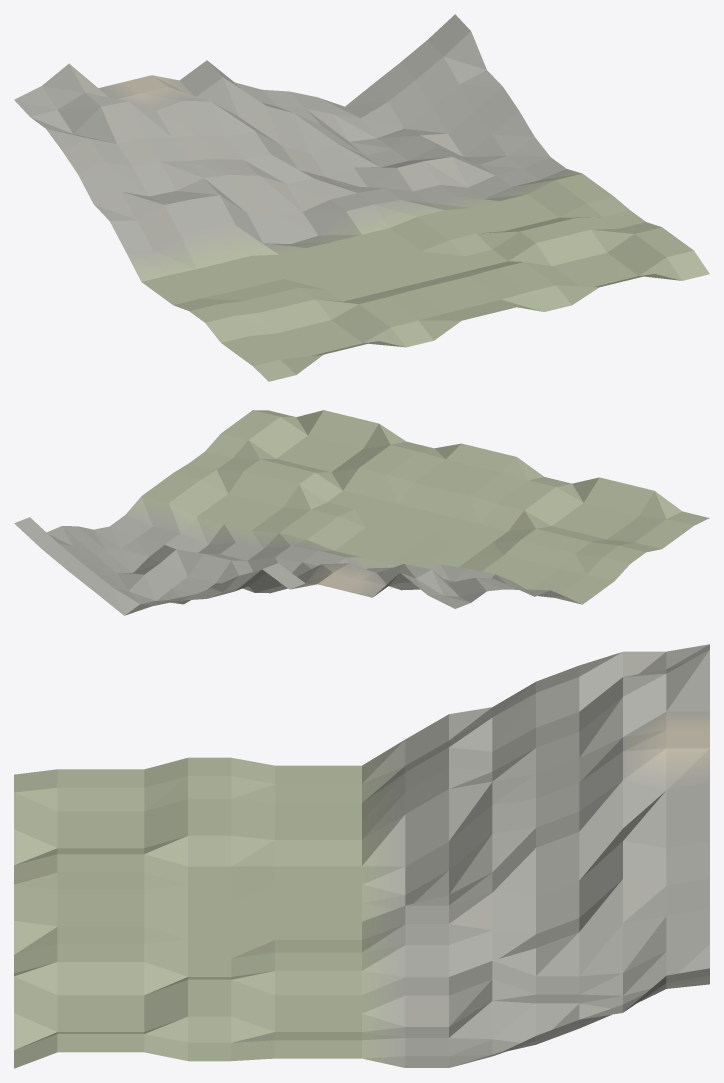
3 views of the same model, one above another, from view 1: azimuth 30°, elevation 25°; view 2: azimuth 150°, elevation 25°; view 3: azimuth 270°, elevation 25° (orthographic). The views are drawn at different scales.
Size of the model in its own units: 32 by 8.89 by 32.
